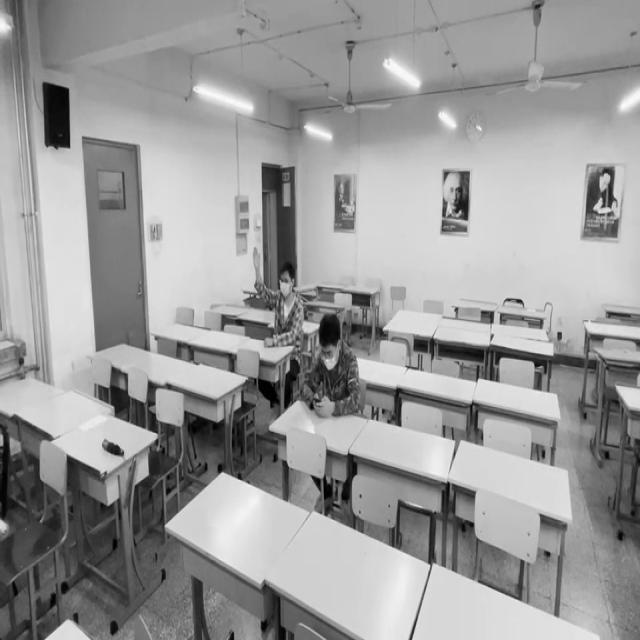phone: (304, 312, 361, 415)
study: (251, 247, 303, 344)
